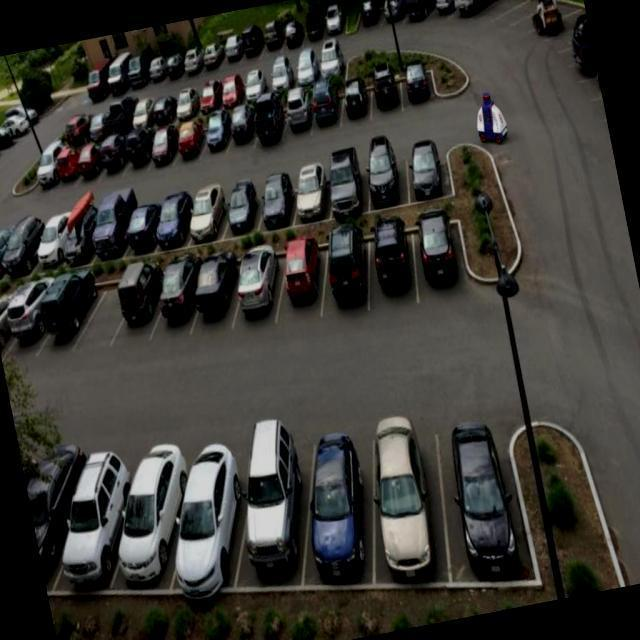space-empty: (68, 259, 135, 365), (466, 0, 519, 32), (492, 0, 544, 28)
space-occupied: (148, 430, 263, 603), (37, 436, 149, 606), (220, 420, 325, 591), (288, 410, 390, 586), (97, 431, 200, 590), (434, 419, 525, 594), (358, 422, 454, 583), (15, 419, 100, 580), (27, 254, 106, 368), (402, 204, 477, 318), (316, 212, 386, 330), (266, 229, 339, 337), (222, 238, 293, 347), (104, 251, 174, 360), (182, 245, 253, 352), (360, 209, 428, 319), (0, 260, 68, 365), (147, 249, 212, 354), (48, 187, 119, 272), (144, 180, 207, 258), (84, 184, 144, 264), (351, 132, 409, 212), (177, 175, 235, 253), (283, 148, 338, 229), (215, 168, 273, 244), (0, 195, 54, 276), (398, 133, 453, 212), (250, 157, 303, 238), (29, 193, 84, 270), (315, 140, 364, 216), (119, 188, 169, 261), (218, 89, 266, 155), (394, 48, 441, 114), (301, 70, 351, 131), (247, 87, 294, 150), (332, 64, 377, 128), (140, 116, 188, 176), (258, 47, 304, 107), (93, 90, 142, 144), (364, 61, 407, 120), (233, 50, 278, 105), (275, 85, 320, 138), (46, 100, 92, 149), (192, 26, 234, 77), (316, 38, 356, 90), (191, 68, 231, 120), (123, 84, 163, 136), (210, 23, 250, 75), (172, 113, 211, 166), (93, 128, 132, 181), (165, 74, 205, 124), (0, 205, 24, 288), (287, 40, 325, 92), (315, 0, 355, 48), (137, 45, 177, 93), (211, 62, 250, 111), (77, 93, 116, 142), (196, 110, 235, 157), (153, 39, 193, 84), (68, 138, 106, 185), (274, 7, 312, 53), (543, 0, 590, 37), (120, 128, 159, 172), (370, 0, 420, 34), (99, 50, 135, 97), (446, 0, 504, 29), (231, 16, 266, 64), (144, 87, 182, 131), (78, 61, 115, 105), (27, 144, 63, 189), (256, 8, 291, 54), (52, 142, 85, 187), (515, 0, 568, 28), (353, 0, 394, 36), (119, 49, 153, 90), (296, 0, 327, 44), (396, 0, 442, 29), (174, 36, 206, 76), (427, 0, 470, 22)
